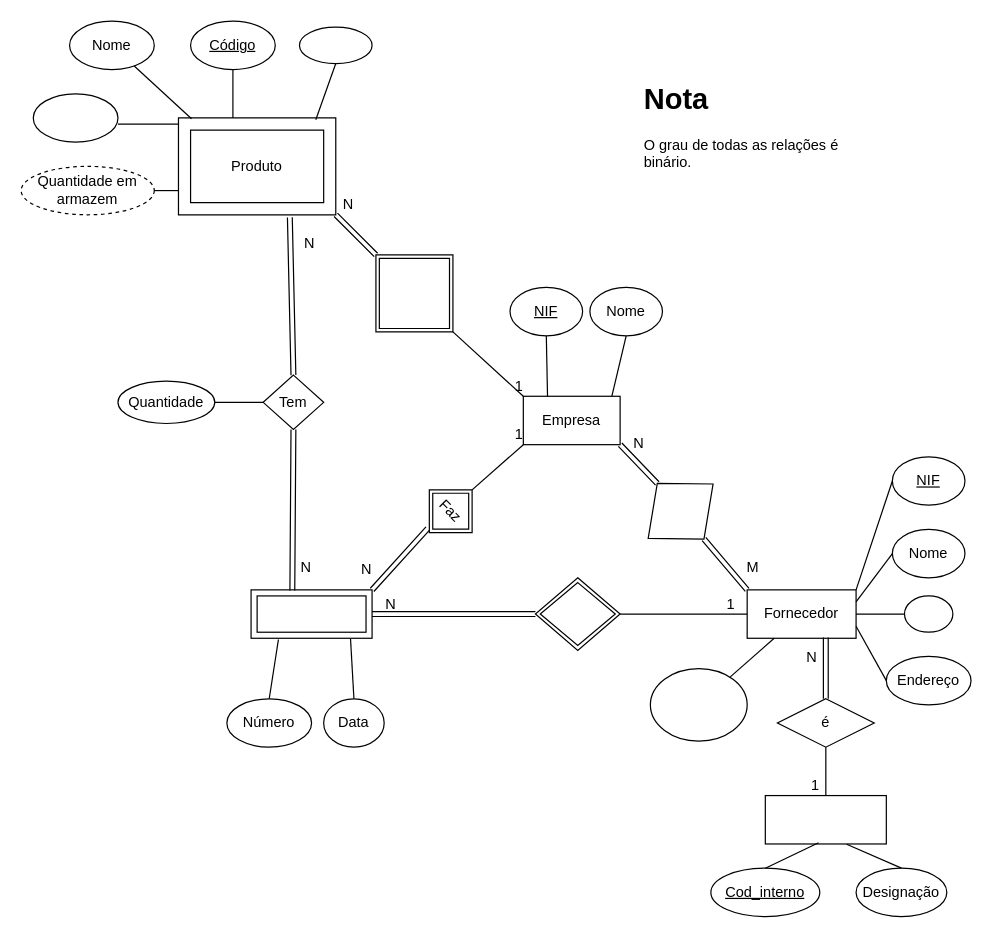
The diagram is 992 pixels wide and 938 high, and some of its shapes have lost their labels. The shapes that lost their labels are listed below. From the top down, each one's centre as x and y in pixels, then its label:
the point at 335,45: IVA
the point at 75,117: Preço
the point at 414,293: Comercializa
the point at 680,511: Fornece
the point at 311,613: Encomenda
the point at 577,613: Recebe
the point at 928,613: FAX
the point at 698,704: Condição de Pagamento
the point at 825,819: Tipo de Fornecedor
